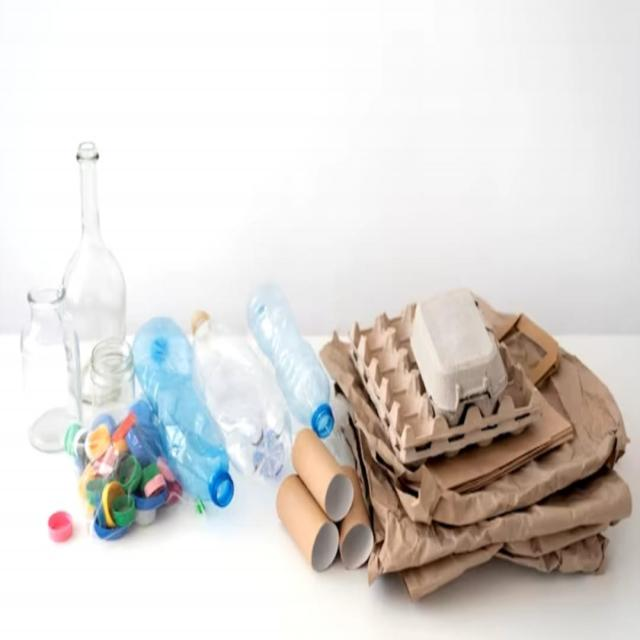dry: (358, 319, 536, 458), (413, 472, 617, 593), (138, 320, 240, 516), (50, 360, 159, 506), (257, 285, 329, 438), (288, 455, 371, 567)
